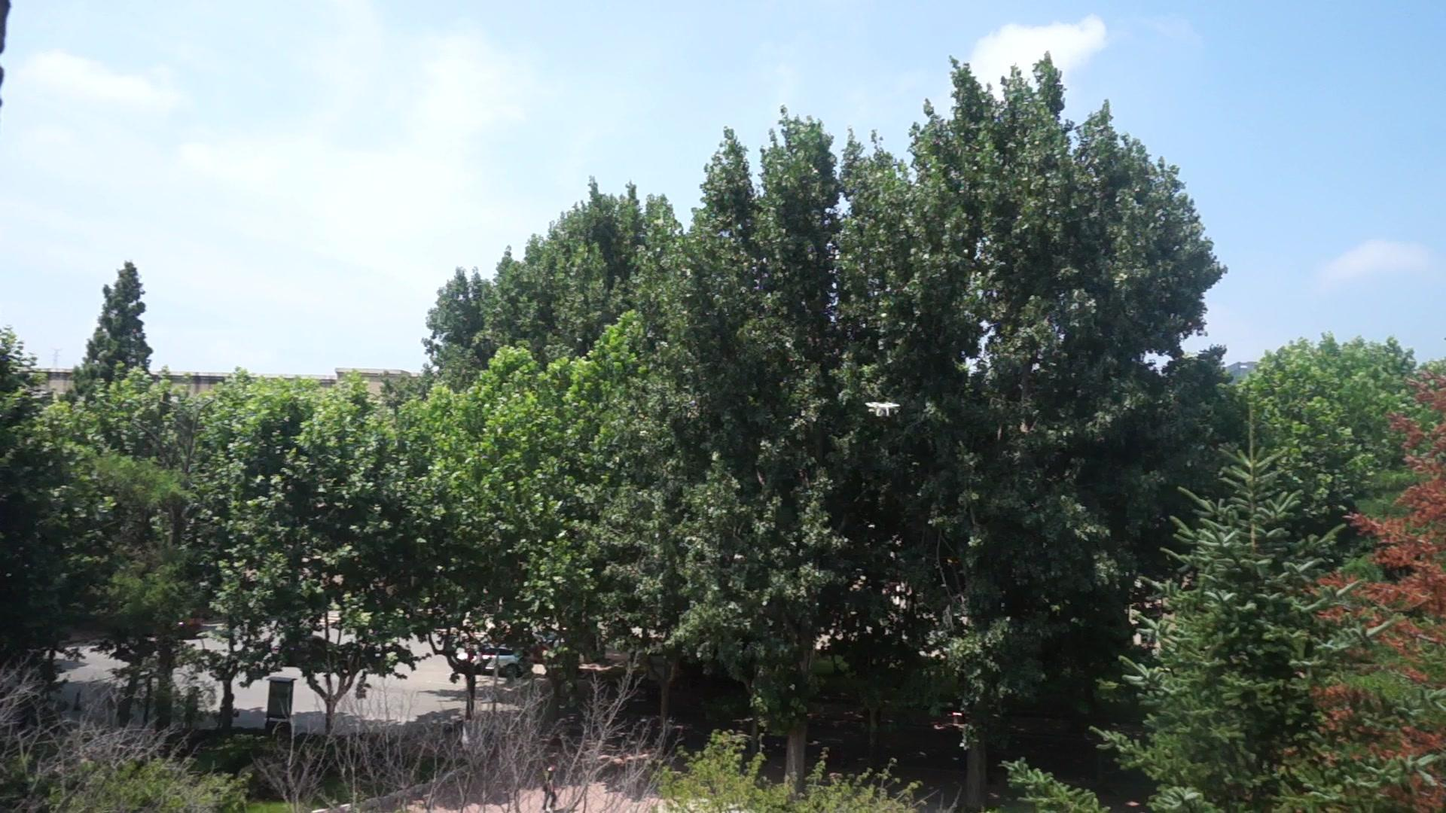UAV: (865, 402, 901, 417)
